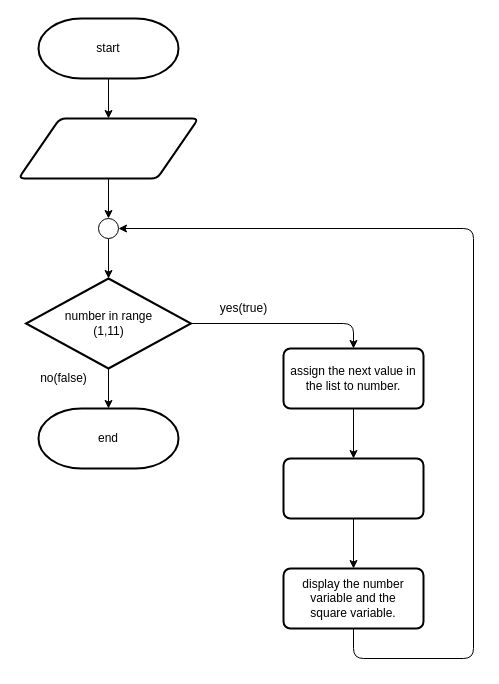
Some shapes in this 499 by 684 pixel diagram are drawn without their labels. The shapes that lost their labels are listed below. From the top down, each one's centre as x and y in pixels, then its label:
the point at 108,148: display table headings
the point at 353,488: square = number**2
